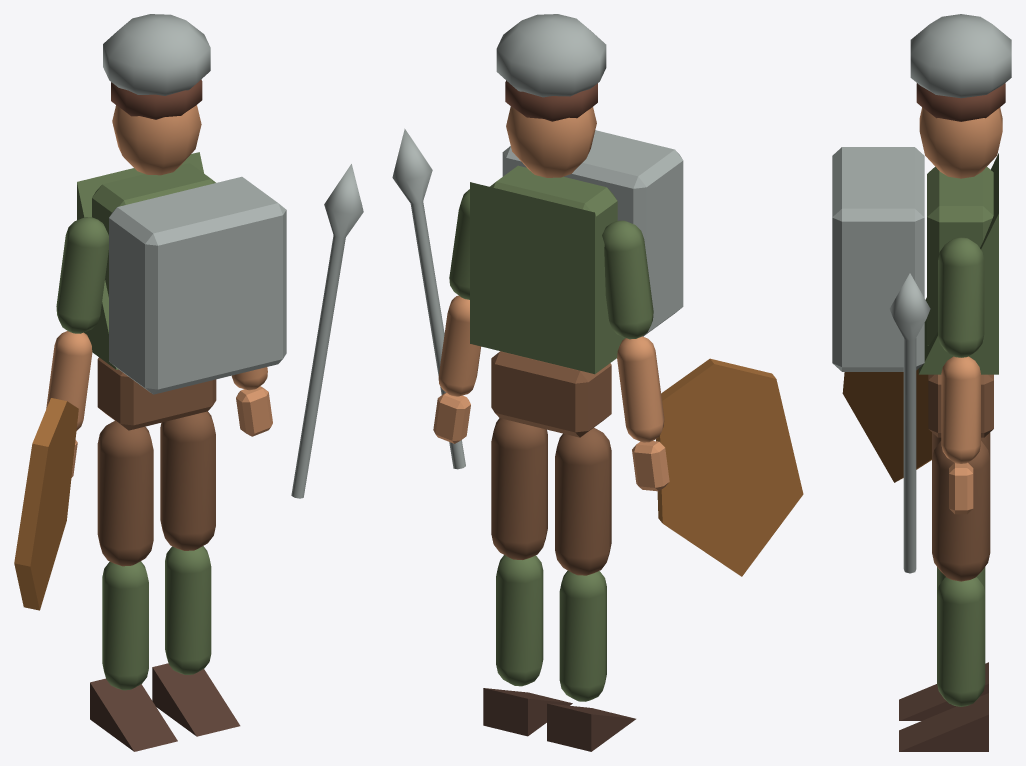
File: adventurer.rustic.glb
The picture shows the model from 3 angles, left to right: view 1: azimuth 30°, elevation 25°; view 2: azimuth 150°, elevation 25°; view 3: azimuth 270°, elevation 25°; orthographic projection.
Parts seen in each view (by area): view 1: accessory.body, accessory.off-hand, thigh.left, thigh.right, accessory.head, shin.left, shin.right, accessory.main-hand, upper-arm.left, pelvis, head, foot.right (+7 smaller); view 2: accessory.off-hand, tunic, accessory.body, pelvis, thigh.left, thigh.right, accessory.head, shin.left, shin.right, upper-arm.left, head, accessory.main-hand (+9 smaller); view 3: accessory.body, accessory.head, shin.right, thigh.right, accessory.off-hand, torso, upper-arm.right, accessory.main-hand, head, forearm.right, tunic, foot.right (+4 smaller).
Boxes of the visible parts, x1,y1,x2,y2 form: accessory.body: (109, 176, 286, 394); accessory.off-hand: (14, 398, 78, 610); thigh.left: (97, 421, 153, 566); thigh.right: (160, 411, 215, 550); accessory.head: (103, 14, 210, 95); shin.left: (102, 561, 148, 690); shin.right: (165, 546, 211, 674); accessory.main-hand: (291, 164, 363, 498); upper-arm.left: (56, 217, 108, 333); pelvis: (97, 357, 216, 430); head: (112, 105, 201, 175); foot.right: (152, 663, 240, 736); accessory.off-hand: (656, 358, 803, 576); tunic: (470, 182, 625, 374); accessory.body: (502, 130, 683, 336); pelvis: (491, 351, 611, 437); thigh.left: (555, 428, 611, 575); thigh.right: (491, 418, 547, 559); accessory.head: (496, 14, 606, 97); shin.left: (559, 570, 606, 701); shin.right: (496, 555, 543, 686); upper-arm.left: (602, 220, 653, 339); head: (506, 106, 596, 177); accessory.main-hand: (392, 128, 465, 469); accessory.body: (832, 147, 924, 371); accessory.head: (910, 14, 1011, 98); shin.right: (937, 577, 985, 706); thigh.right: (932, 441, 990, 581); accessory.off-hand: (842, 369, 931, 482); torso: (927, 166, 993, 345); upper-arm.right: (938, 237, 984, 357); accessory.main-hand: (889, 273, 930, 573); head: (919, 107, 1002, 178); forearm.right: (941, 356, 980, 463); tunic: (918, 153, 998, 374); foot.right: (899, 693, 988, 751).
Bounding box in the file's own units: 1.8 × 3.2 × 0.738.
